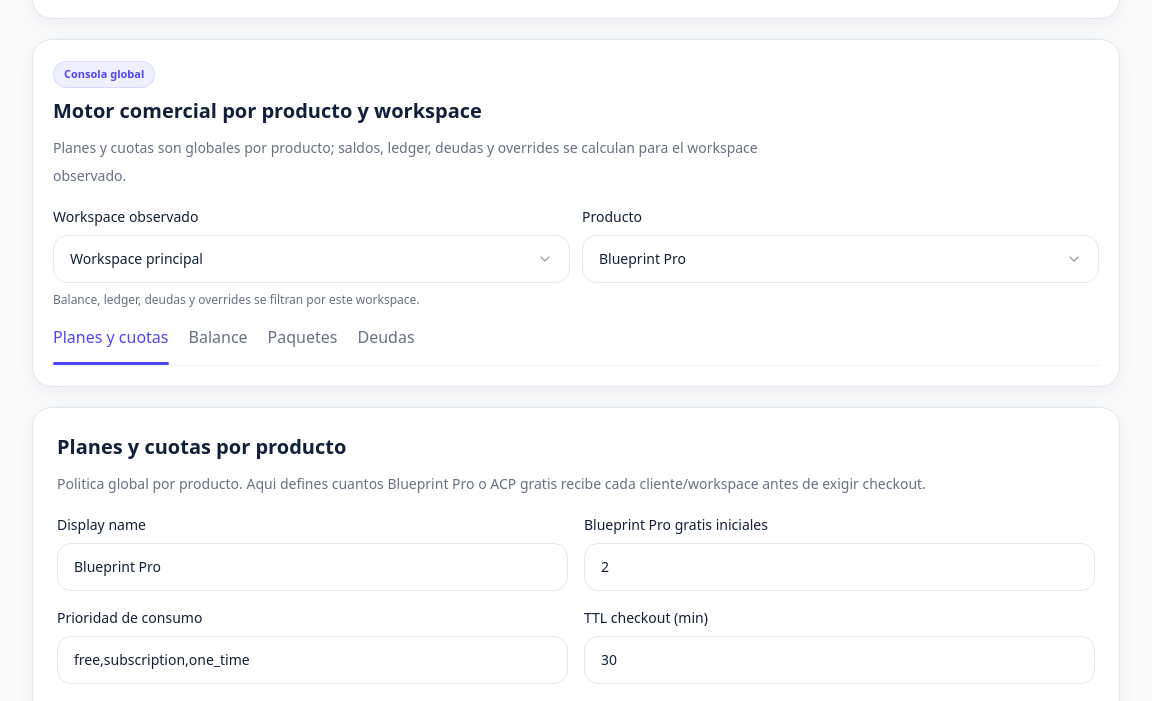
Test: HotmartAdminView › loads comercial slices only when the platform admin opens each subview
This screenshot has width=1152, height=701.
(page scrolled)
expect the text "Motor comercial por producto y workspace" is shown: met, box [53,96,482,124]
expect the dropdown labelled "Workspace observado" is shown: met, box [54,236,569,282]
Click the button "Balance": (218, 344) [188,324,248,364]
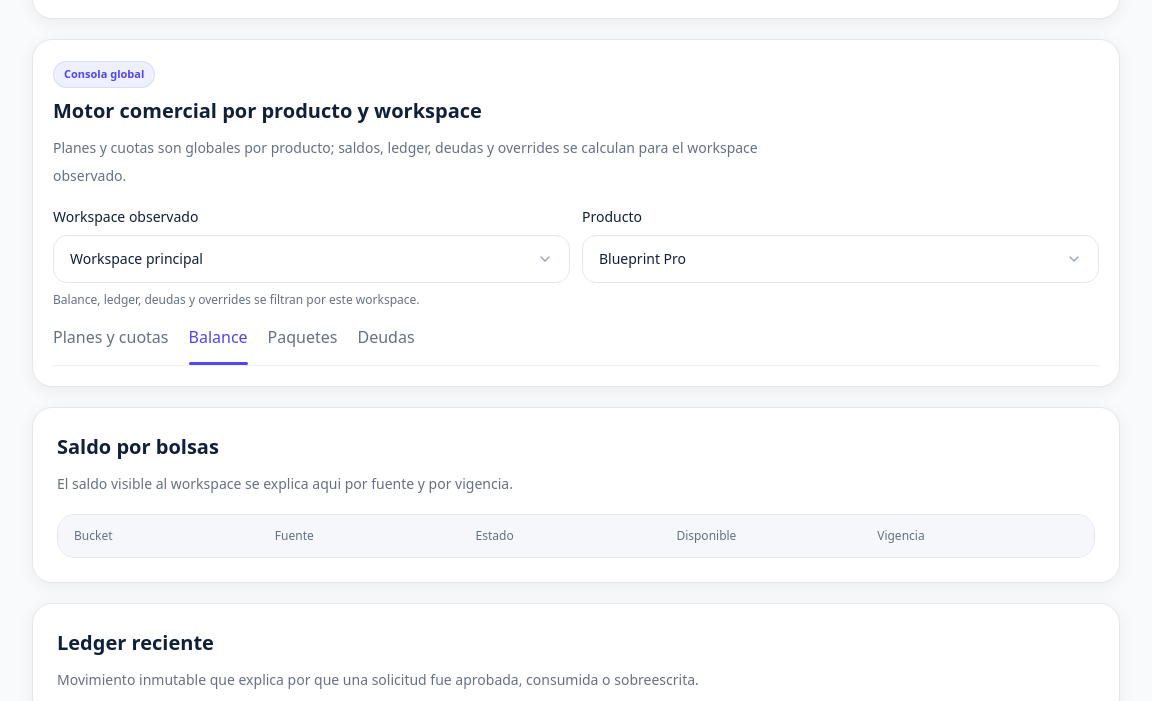
expect the text "Ledger reciente" is shown: met, box [57,628,214,656]
Click the button "Paquetes": (303, 344) [268,324,338,364]
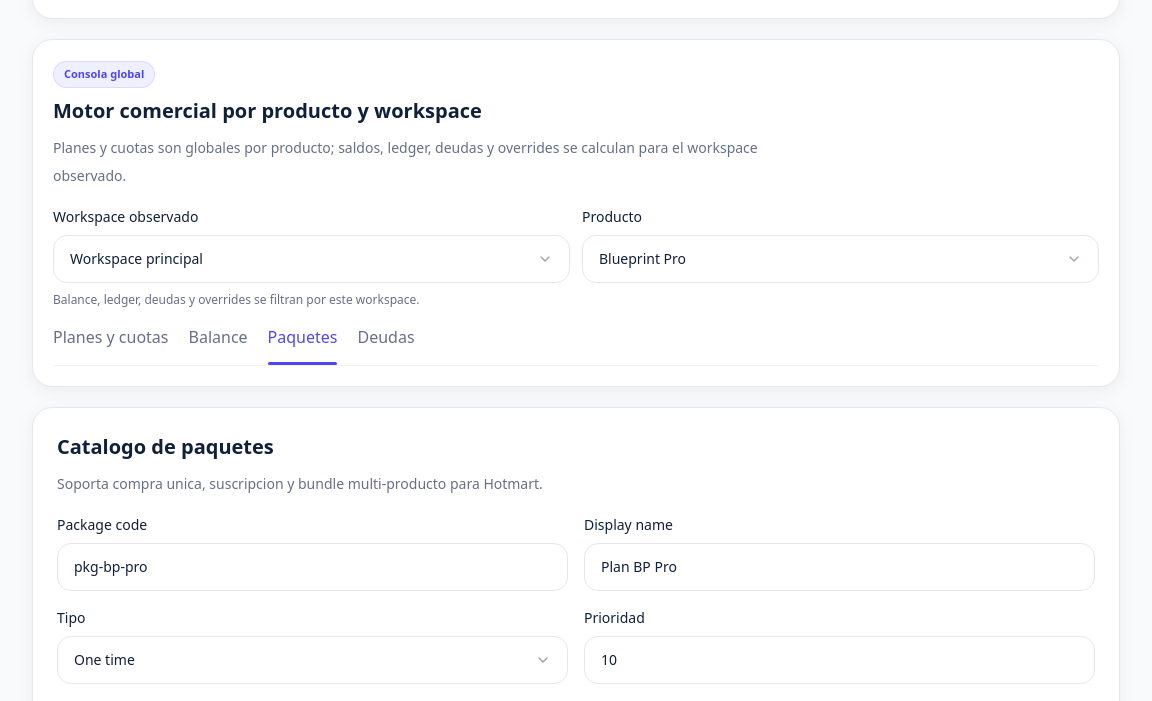
expect the text "Catalogo de paquetes" is shown: met, box [57,432,274,460]
Click the button "Deudas": (386, 344) [358,324,415,364]
(page scrolled)
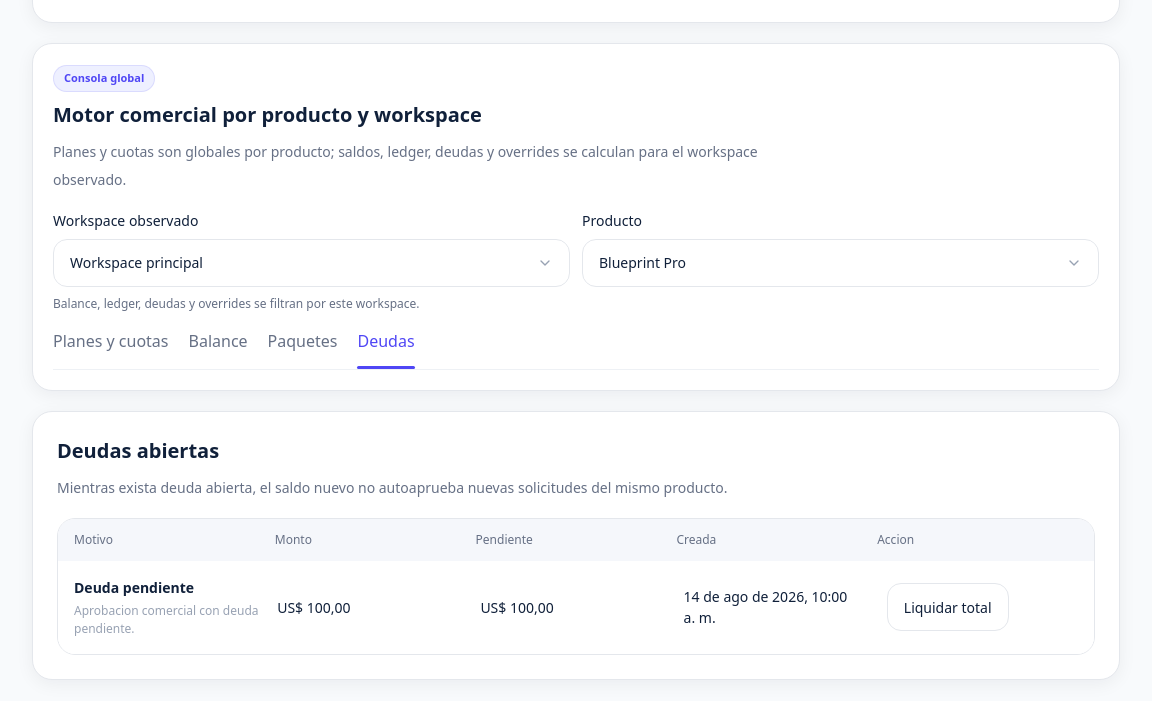
expect the text "Deudas abiertas" is shown: met, box [57,436,219,464]
